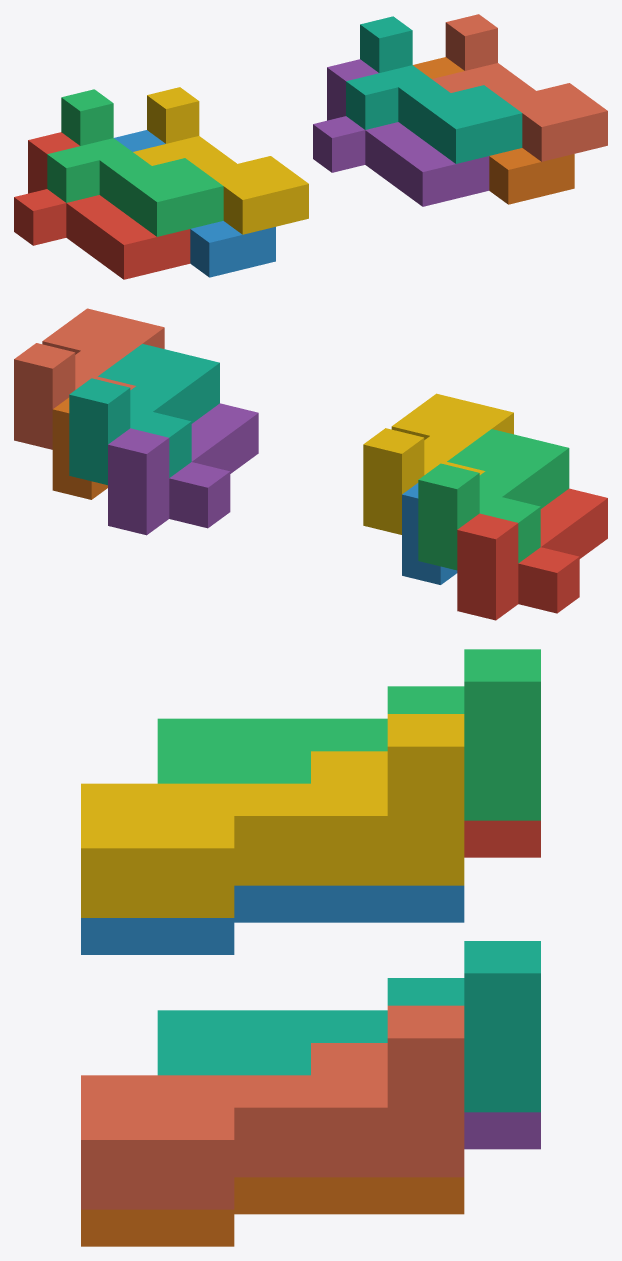
File: tiling.obj
3 views of the same model, one above another, from view 1: azimuth 30°, elevation 25°; view 2: azimuth 150°, elevation 25°; view 3: azimuth 270°, elevation 25° (orthographic). The views are drawn at different scales.
Visible parts, largest first — view 1: copy_1_domain_3, copy_1_domain_7, copy_1_domain_1, copy_1_domain_5, copy_1_domain_4, copy_1_domain_8, copy_1_domain_2, copy_1_domain_6; view 2: copy_1_domain_3, copy_1_domain_7, copy_1_domain_1, copy_1_domain_5, copy_1_domain_4, copy_1_domain_8, copy_1_domain_6, copy_1_domain_2; view 3: copy_1_domain_8, copy_1_domain_4, copy_1_domain_3, copy_1_domain_7, copy_1_domain_6, copy_1_domain_2, copy_1_domain_1, copy_1_domain_5.
Boxes of the visible parts, left/top/right/bottom form: copy_1_domain_3: left=47, top=89, right=223, bottom=236; copy_1_domain_7: left=346, top=16, right=522, bottom=163; copy_1_domain_1: left=14, top=132, right=190, bottom=279; copy_1_domain_5: left=313, top=59, right=489, bottom=206; copy_1_domain_4: left=133, top=87, right=308, bottom=234; copy_1_domain_8: left=432, top=14, right=607, bottom=161; copy_1_domain_2: left=114, top=130, right=275, bottom=277; copy_1_domain_6: left=413, top=57, right=574, bottom=204; copy_1_domain_3: left=418, top=429, right=569, bottom=570; copy_1_domain_7: left=69, top=344, right=219, bottom=485; copy_1_domain_1: left=457, top=488, right=607, bottom=620; copy_1_domain_5: left=108, top=403, right=258, bottom=535; copy_1_domain_4: left=363, top=393, right=513, bottom=534; copy_1_domain_8: left=14, top=308, right=164, bottom=449; copy_1_domain_6: left=52, top=397, right=107, bottom=499; copy_1_domain_2: left=402, top=483, right=457, bottom=584; copy_1_domain_8: left=81, top=1005, right=464, bottom=1209; copy_1_domain_4: left=81, top=714, right=464, bottom=917; copy_1_domain_3: left=157, top=649, right=540, bottom=820; copy_1_domain_7: left=157, top=941, right=540, bottom=1112; copy_1_domain_6: left=81, top=1177, right=464, bottom=1246; copy_1_domain_2: left=81, top=885, right=464, bottom=954; copy_1_domain_1: left=464, top=820, right=540, bottom=857; copy_1_domain_5: left=464, top=1112, right=540, bottom=1149.
Size of the model in its own units: 15 by 3 by 6.
